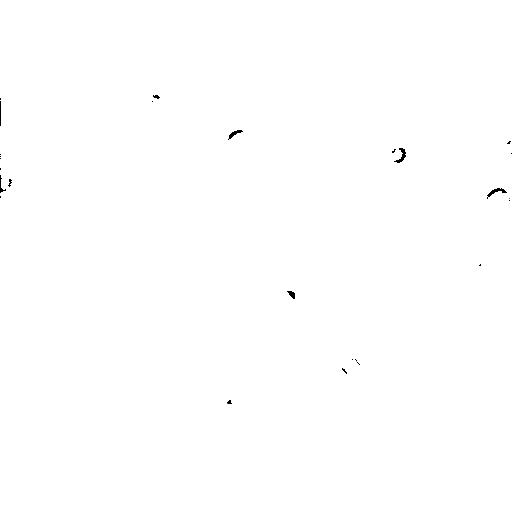micro-algae: (427, 42, 466, 81), (464, 252, 495, 285), (276, 276, 305, 308), (224, 127, 255, 154), (483, 187, 511, 215), (223, 473, 255, 497), (340, 355, 365, 378), (227, 396, 249, 422), (199, 169, 222, 192), (192, 424, 217, 441), (386, 145, 407, 163), (249, 0, 271, 16), (501, 133, 511, 155), (1, 174, 13, 192), (78, 1, 97, 4)
